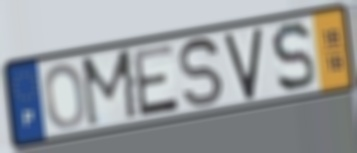E: (130, 41, 182, 119)
M: (79, 45, 142, 131)
O: (42, 61, 88, 132)
S: (269, 19, 318, 96), (177, 35, 226, 110)
V: (222, 24, 264, 103)
